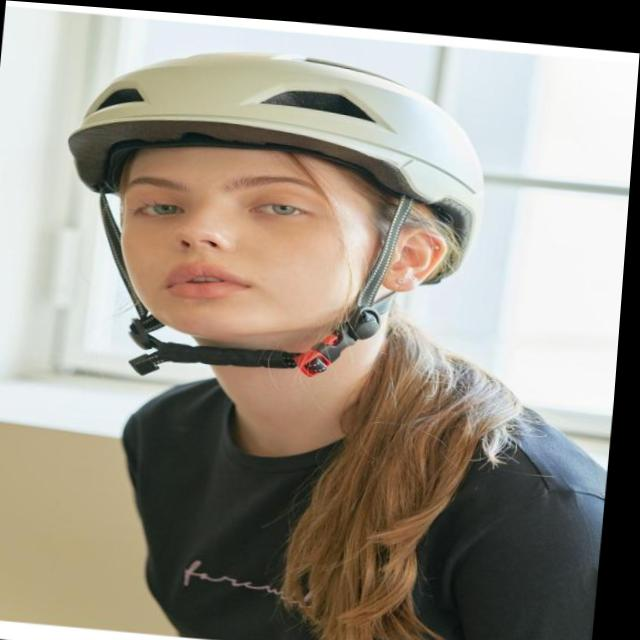helmet: (50, 32, 493, 398)
